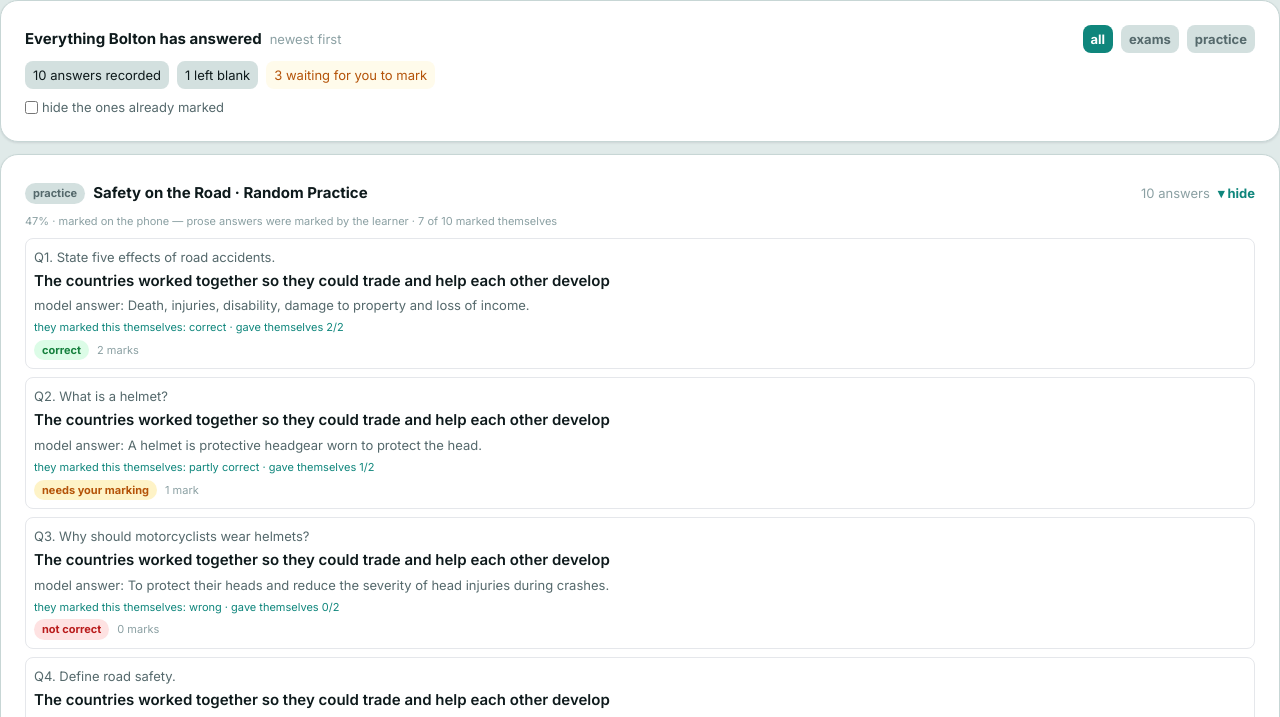
Test case: a practice run with no answers shown, as captured from the phone › reaches the page through the practice filter
expect the text "Everything Bolton has answered" is shown: met, box [25,27,262,51]
Click the button "practice": (1221, 39) [1187,25,1255,53]
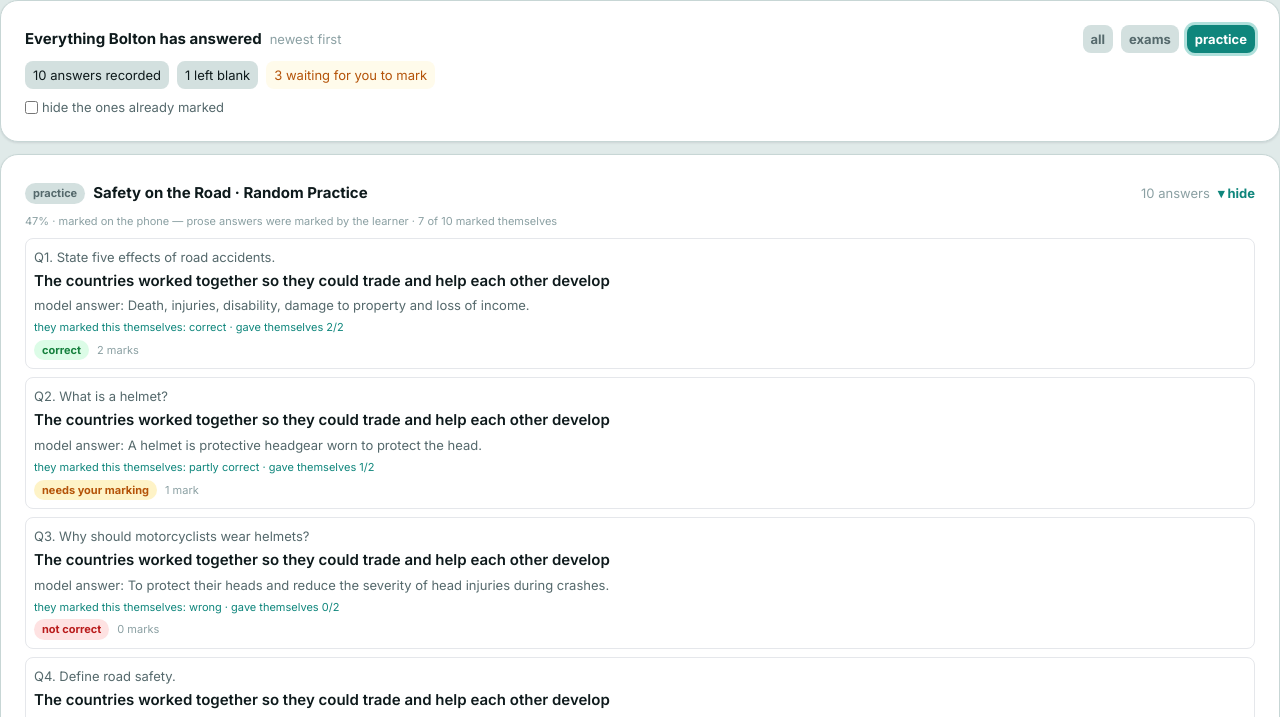
expect the text "Safety on the Road · Random Practice" is shown: met, box [93,181,368,205]
Click the button "exams": (1150, 39) [1121,25,1179,53]
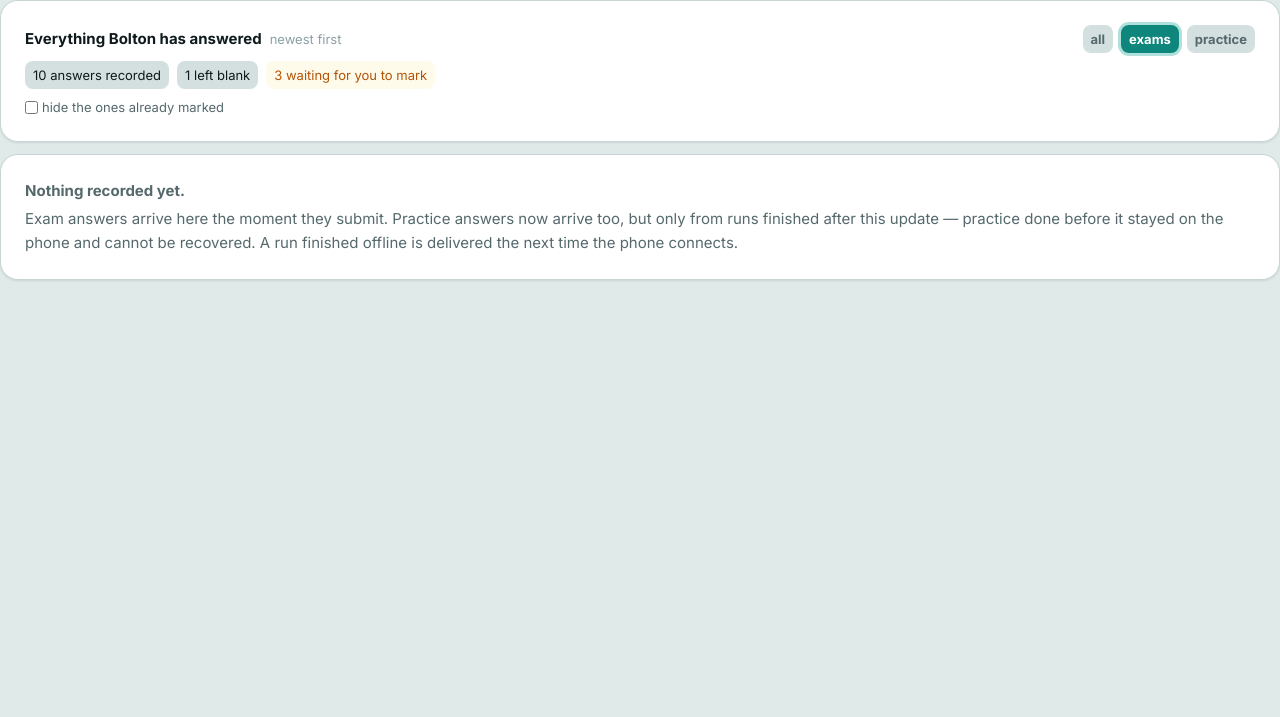
expect the text "Nothing recorded yet." is shown: met, box [25,181,185,200]
